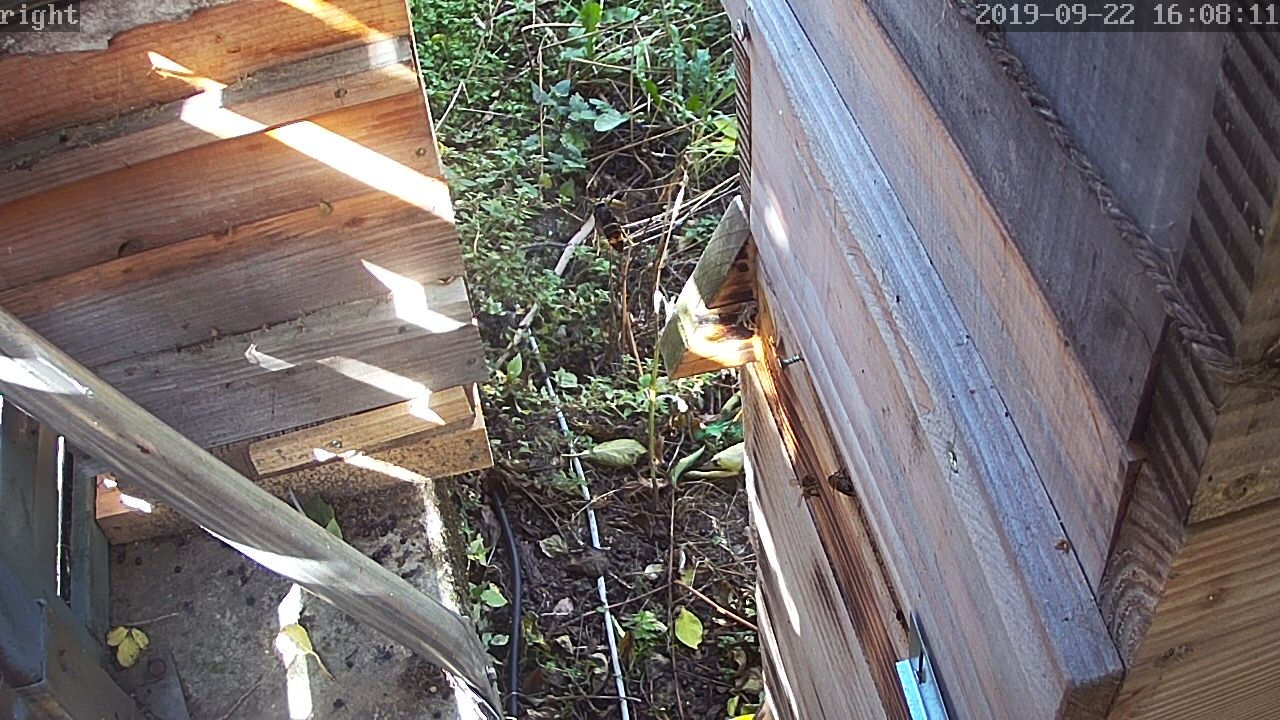bee: (824, 470, 861, 499), (795, 473, 822, 505)
hornet: (585, 198, 636, 257)
